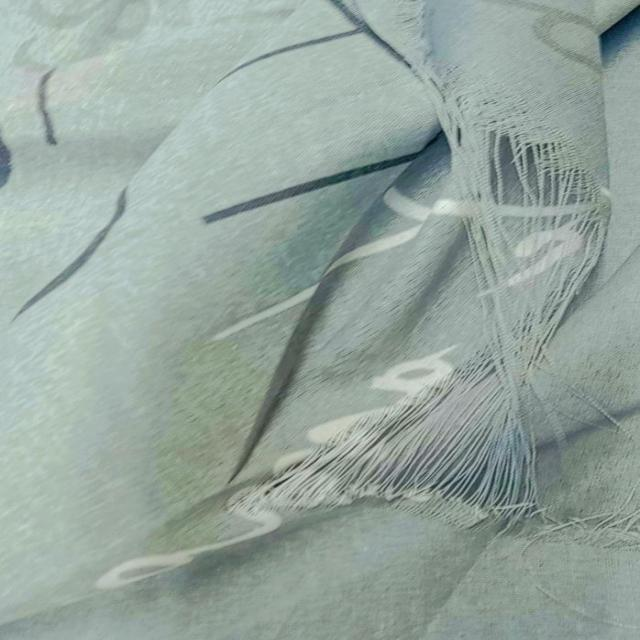cut: (304, 81, 640, 545)
